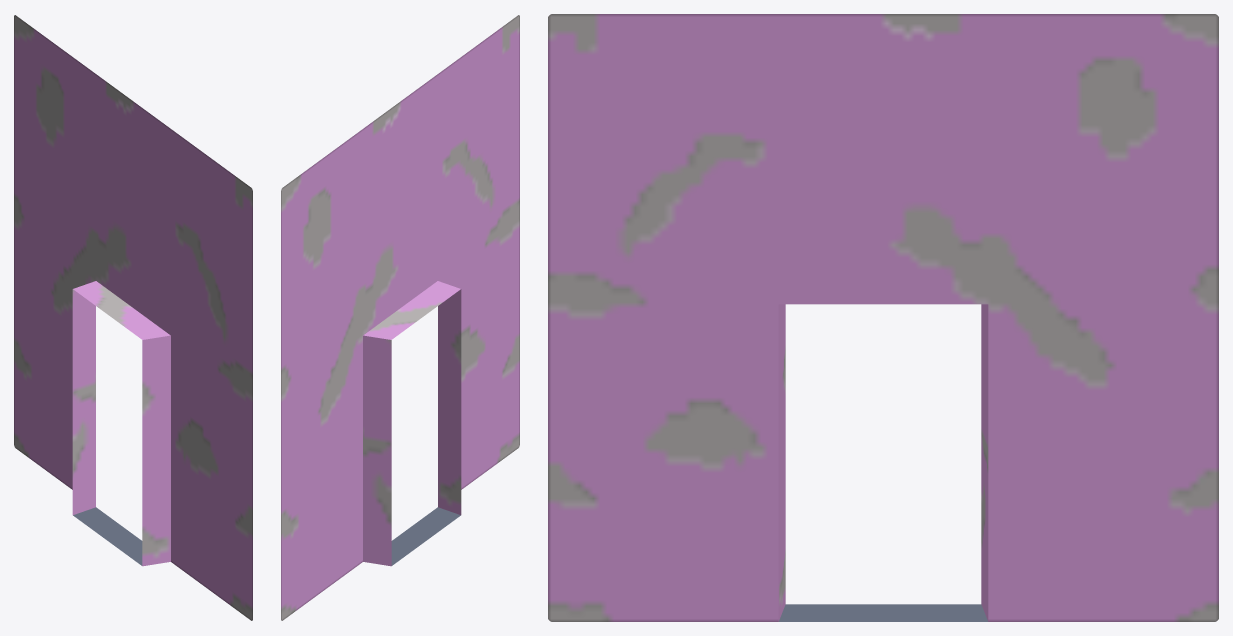
Rendered from ParedPuertaRosa1.fbx.
3 views of the same model, side by side, from view 1: azimuth 30°, elevation 25°; view 2: azimuth 150°, elevation 25°; view 3: azimuth 270°, elevation 25° (orthographic). The views are drawn at different scales.
Parts seen in each view (by area): view 1: Pared + Puerta 1; view 2: Pared + Puerta 1; view 3: Pared + Puerta 1.
Boxes of the visible parts, left/top/right/bottom form: Pared + Puerta 1: left=14, top=15, right=252, bottom=620; Pared + Puerta 1: left=281, top=15, right=519, bottom=620; Pared + Puerta 1: left=548, top=14, right=1218, bottom=621.
Size of the model in its own units: 18.75 by 300 by 300.
1 material, 1 textured.
